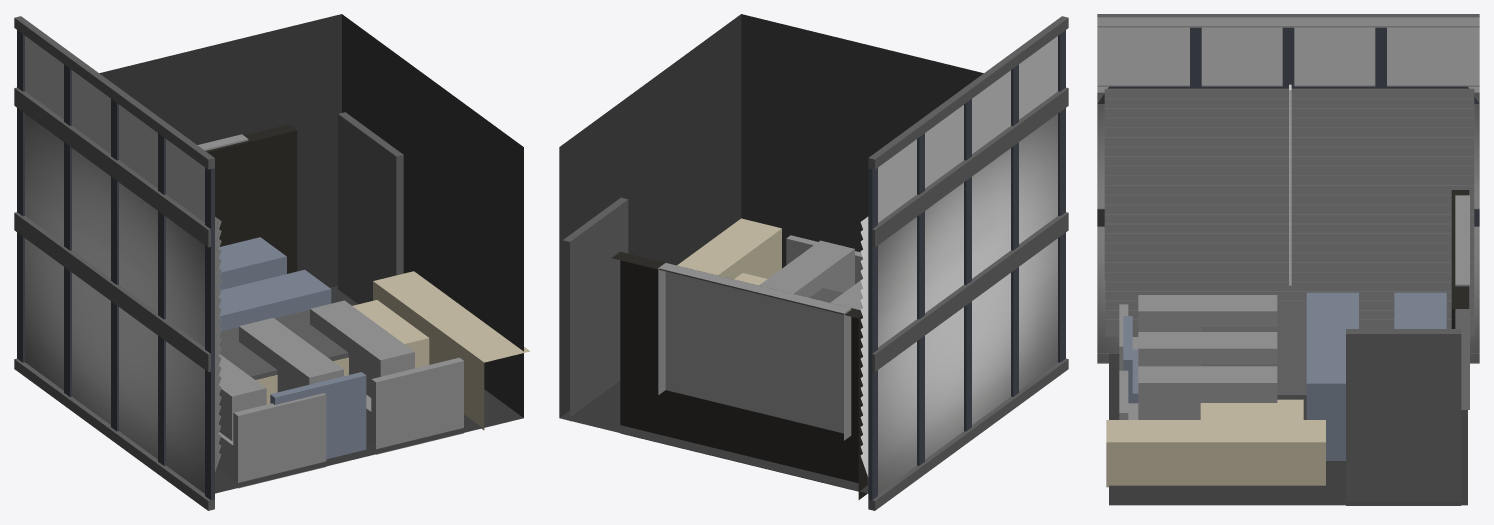
The model's file is Wall_26_Fake_Interior.FBX.
3 renders of one model, left to right at view 1: azimuth 30°, elevation 25°; view 2: azimuth 150°, elevation 25°; view 3: azimuth 270°, elevation 25°, orthographic.
Parts seen in each view (by area): view 1: Wall_26_Fake Interior_LOD0, Wall_26_Fake Interior_C, Wall_26_Fake Interior_B, Wall_26_Fake Interior_A, Wall_26_Blind_01_LOD0, Wall_26_Blind_02_LOD0; view 2: Wall_26_Fake Interior_LOD0, Wall_26_Fake Interior_C, Wall_26_Fake Interior_A, Wall_26_Fake Interior_B, Wall_26_Blind_01_LOD0; view 3: Wall_26_Blind_01_LOD0, Wall_26_Fake Interior_B, Wall_26_Fake Interior_LOD0, Wall_26_Blind_02_LOD0, Wall_26_Fake Interior_C, Wall_26_Fake Interior_A.
Boxes of the visible parts, x1,y1,x2,y2 form: Wall_26_Fake Interior_LOD0: (14,14,523,510); Wall_26_Fake Interior_C: (206,114,530,459); Wall_26_Fake Interior_B: (218,112,414,440); Wall_26_Fake Interior_A: (197,134,463,488); Wall_26_Blind_01_LOD0: (215,217,221,471); Wall_26_Blind_02_LOD0: (215,221,221,415); Wall_26_Fake Interior_LOD0: (559,14,1068,510); Wall_26_Fake Interior_C: (570,199,867,499); Wall_26_Fake Interior_A: (658,235,862,440); Wall_26_Fake Interior_B: (563,197,862,310); Wall_26_Blind_01_LOD0: (860,216,868,476); Wall_26_Blind_01_LOD0: (1105,88,1474,336); Wall_26_Fake Interior_B: (1138,292,1461,505); Wall_26_Fake Interior_LOD0: (1097,14,1479,505); Wall_26_Blind_02_LOD0: (1104,84,1291,285); Wall_26_Fake Interior_C: (1106,190,1469,487); Wall_26_Fake Interior_A: (1119,195,1469,419).
Size of what is drawn, in the model's own units: 175 by 180 by 180.
